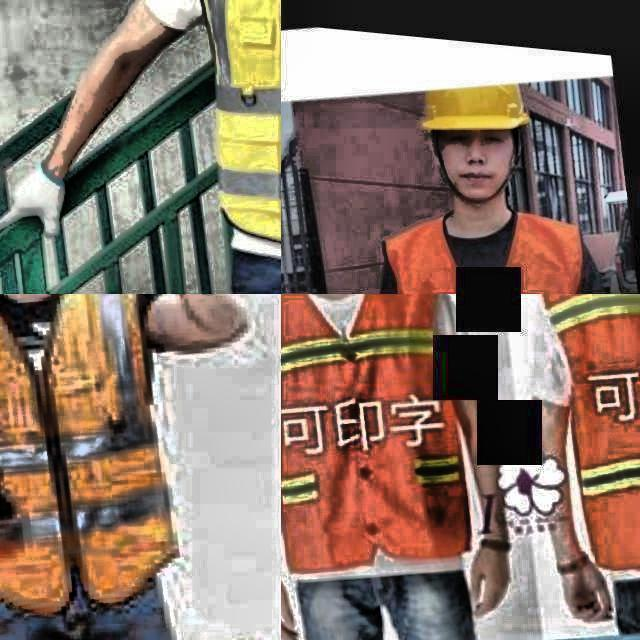safety_jacket: (281, 294, 500, 582), (0, 294, 191, 596), (534, 294, 640, 581), (383, 184, 634, 294), (176, 0, 281, 259)
